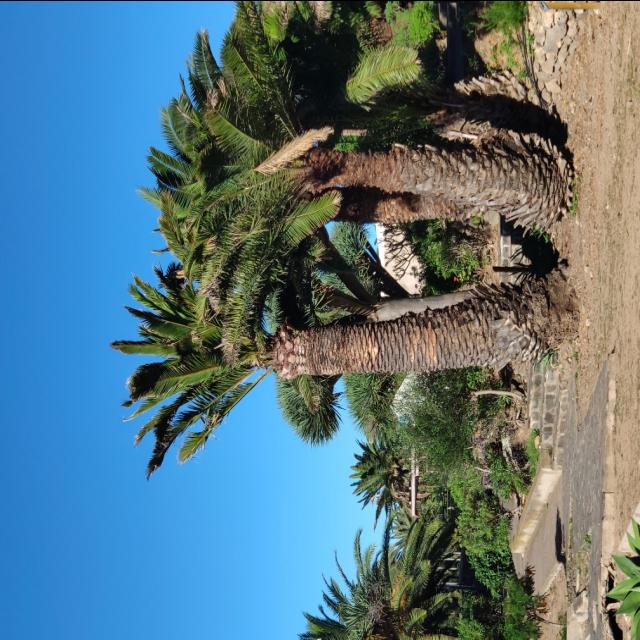Palm-Trees: (106, 245, 580, 483), (192, 4, 574, 285)
